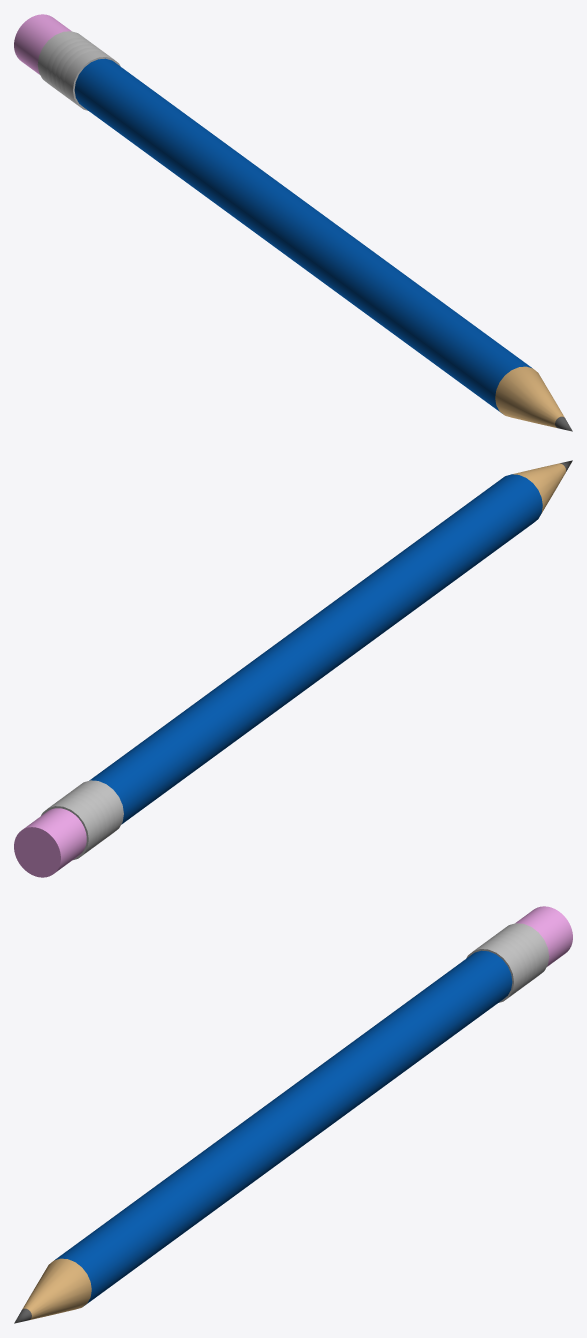
The model's file is maya2sketchfab.fbx.
3 views of the same model, one above another, from view 1: azimuth 30°, elevation 25°; view 2: azimuth 150°, elevation 25°; view 3: azimuth 330°, elevation 25° (orthographic).
Parts seen in each view (by area): view 1: pCylinder1; view 2: pCylinder1; view 3: pCylinder1.
Boxes of the visible parts, bbox=[...] form: pCylinder1: bbox=[14, 14, 572, 431]; pCylinder1: bbox=[14, 460, 572, 877]; pCylinder1: bbox=[14, 906, 572, 1323].
Size of the model in its own units: 1.07 by 1.07 by 19.34.
